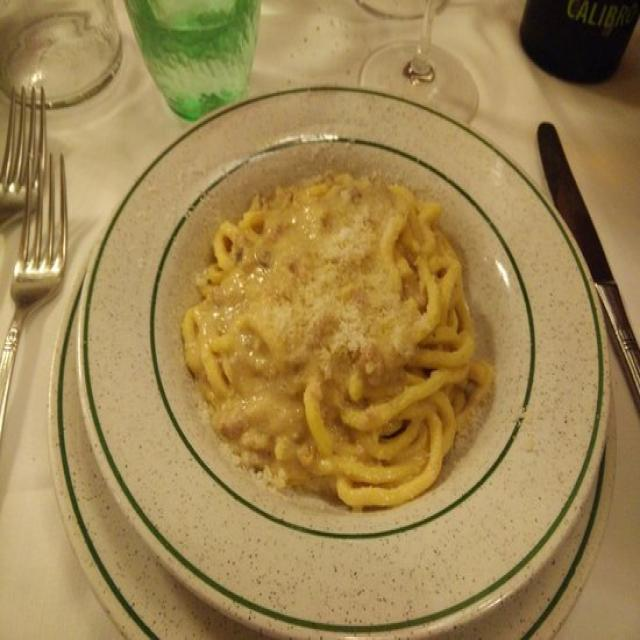Pasta with carbonara sauce: (182, 98, 528, 572)
